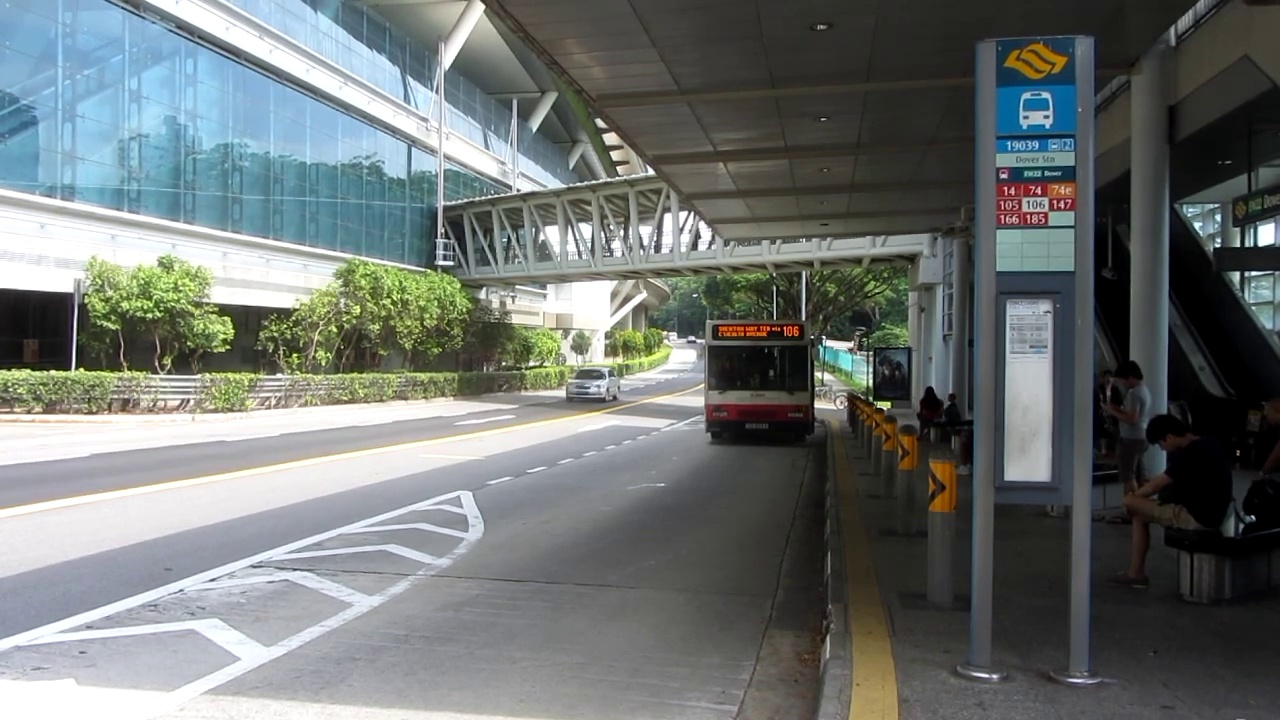bus panel: (711, 324, 805, 342)
